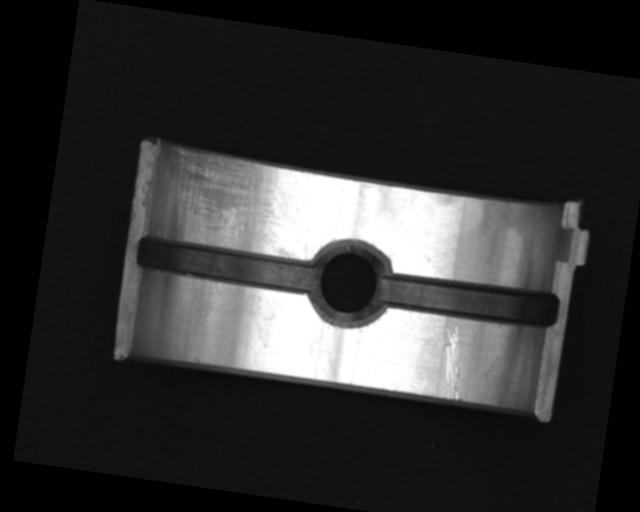gap: (135, 233, 320, 298), (380, 269, 561, 332)
hole: (303, 235, 396, 329)
nick: (435, 324, 470, 402)
scratch: (152, 140, 305, 258)
